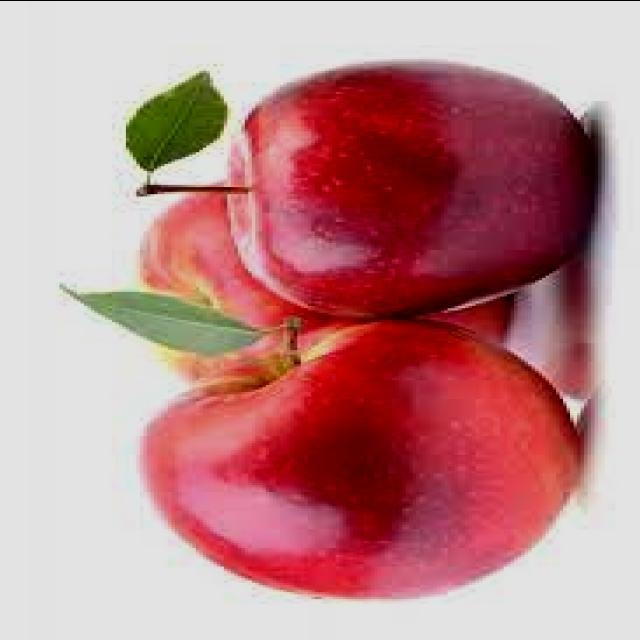agrume: (115, 293, 617, 624), (171, 22, 625, 326), (113, 157, 548, 426)
